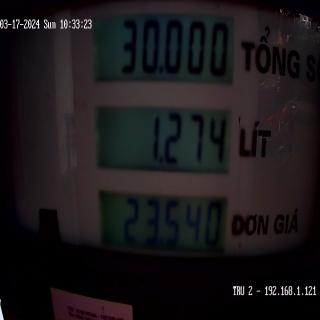screen: (90, 4, 239, 279)
